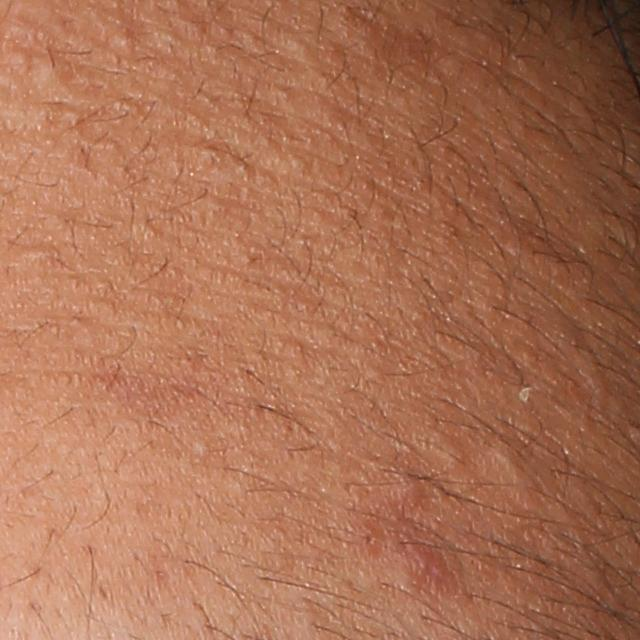comedo: (488, 445, 527, 491), (31, 53, 72, 94), (430, 432, 470, 469), (107, 25, 135, 59), (190, 438, 215, 458)
papule: (390, 532, 454, 582)
